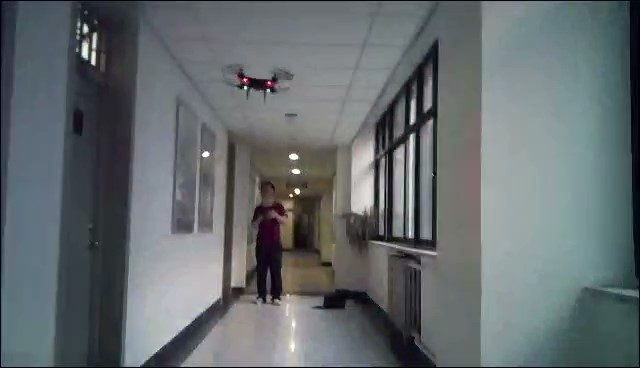drone: (220, 61, 294, 102)
person: (247, 180, 292, 305)
